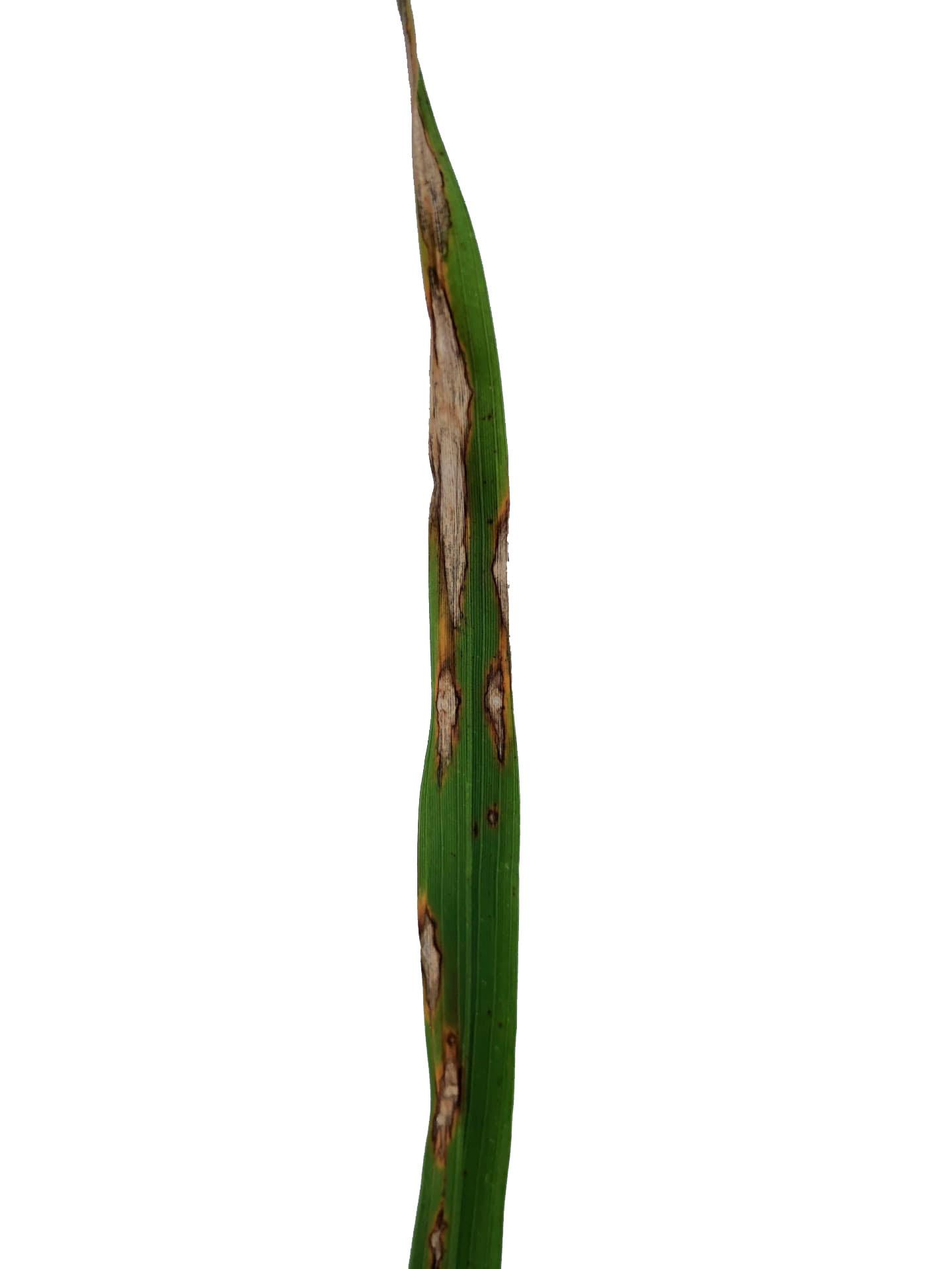Rice blast: (436, 290, 474, 633), (427, 1021, 465, 1169), (427, 644, 462, 786), (413, 81, 438, 260), (479, 643, 512, 770), (490, 509, 510, 631), (422, 900, 443, 1011), (426, 1190, 451, 1268), (489, 809, 499, 830)
